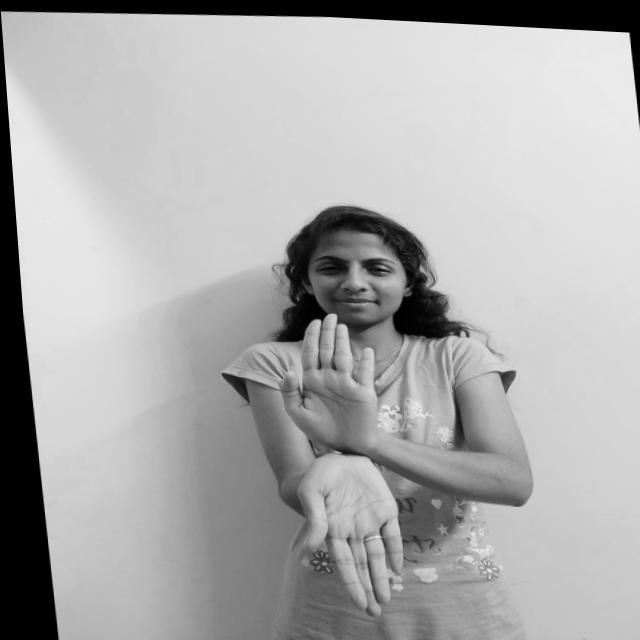Morning: (250, 297, 420, 623)
